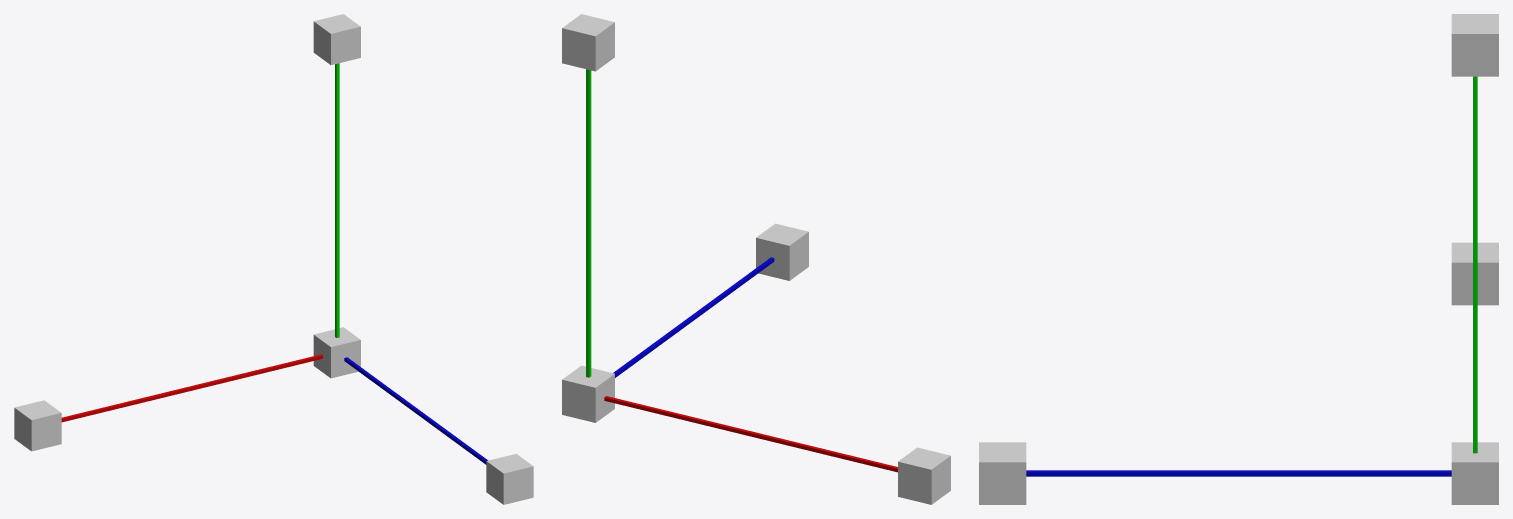
Rendered from Handle_Scale.fbx.
3 renders of one model, left to right at view 1: azimuth 30°, elevation 25°; view 2: azimuth 150°, elevation 25°; view 3: azimuth 270°, elevation 25°, orthographic. The views are drawn at different scales.
Visible parts, largest first — view 1: Handle_Scale; view 2: Handle_Scale; view 3: Handle_Scale.
Boxes of the visible parts, bbox=[...] form: Handle_Scale: bbox=[14, 14, 533, 504]; Handle_Scale: bbox=[562, 14, 950, 504]; Handle_Scale: bbox=[979, 14, 1498, 504].
Size of the model in its own units: 1.1 by 1.1 by 1.1.
